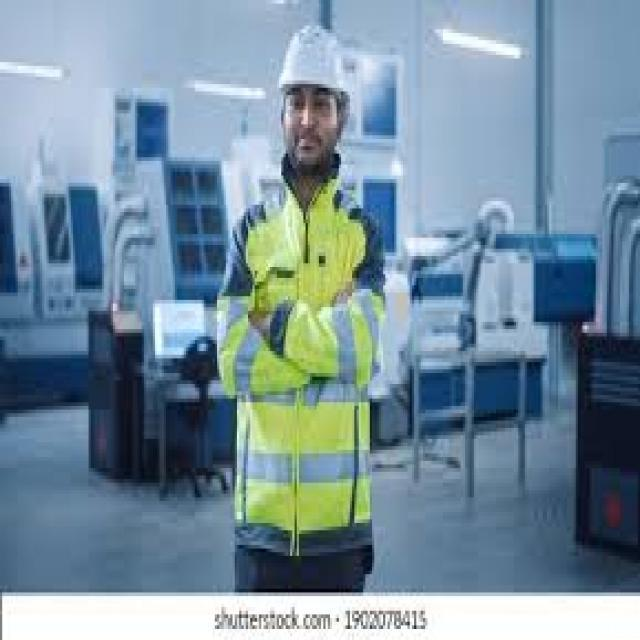reflective_jacket: (219, 175, 385, 563)
safety_helmet: (274, 14, 358, 106)
